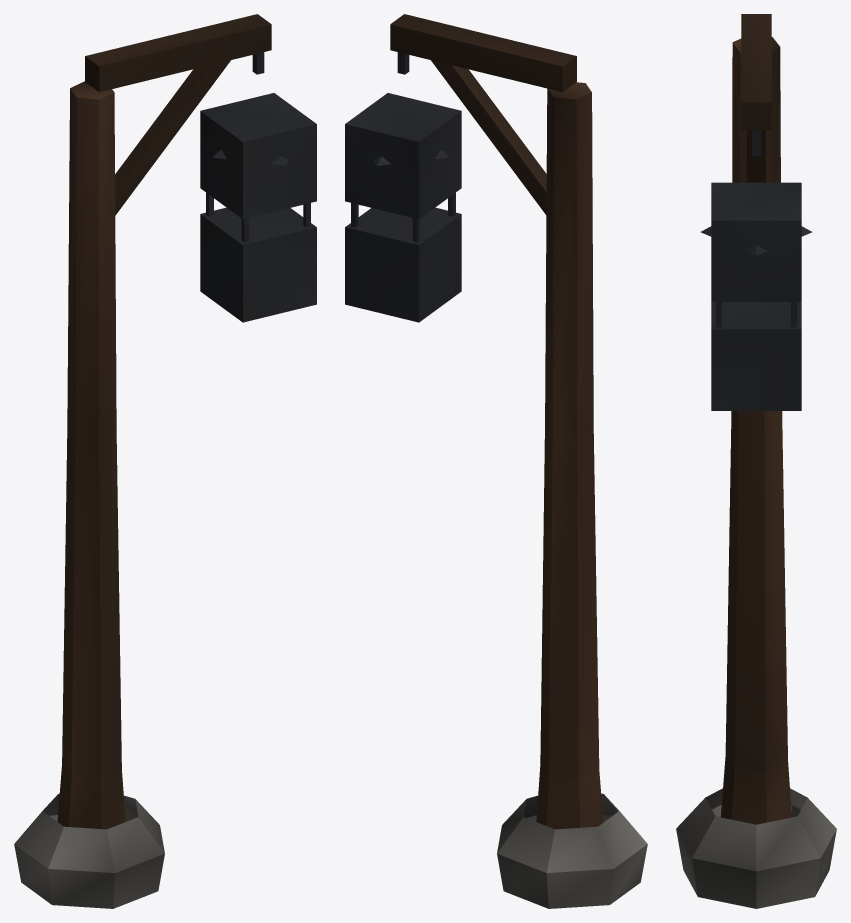
File: lamppost.glb
3 views of the same model, side by side, from view 1: azimuth 30°, elevation 25°; view 2: azimuth 150°, elevation 25°; view 3: azimuth 270°, elevation 25° (orthographic). The views are drawn at different scales.
Parts seen in each view (by area): view 1: lamppost; view 2: lamppost; view 3: lamppost.
Boxes of the visible parts, x1,y1,x2,y2 form: lamppost: (14, 14, 316, 908); lamppost: (345, 14, 647, 908); lamppost: (676, 14, 836, 908).
Bounding box in the file's own units: 0.8882 × 2.54 × 0.429.
